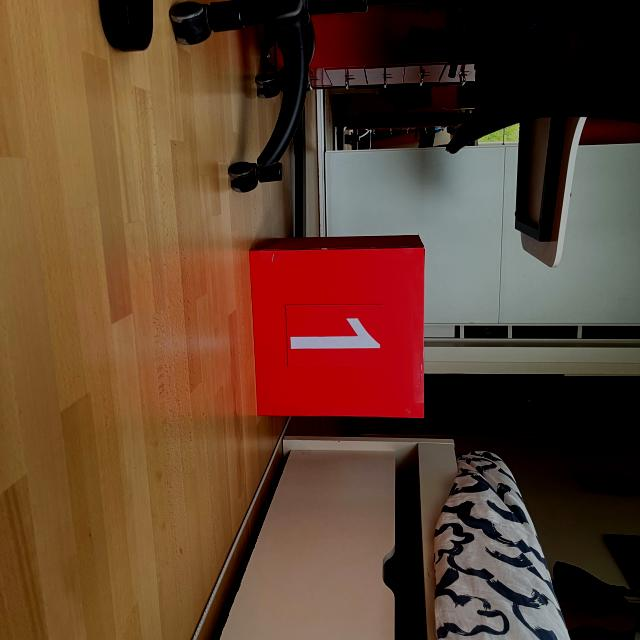box: (244, 232, 428, 420)
